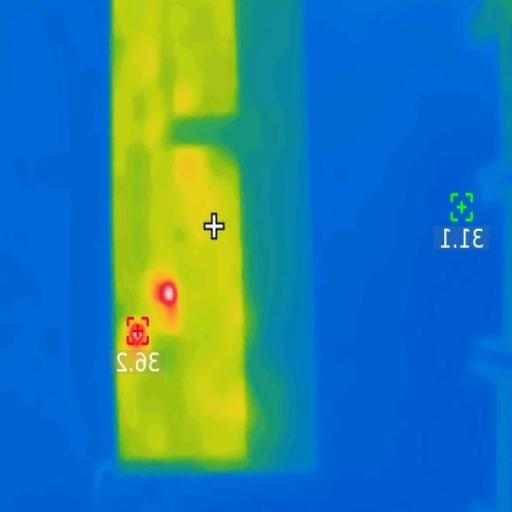hotspot: (126, 324, 146, 343), (161, 282, 176, 304)
